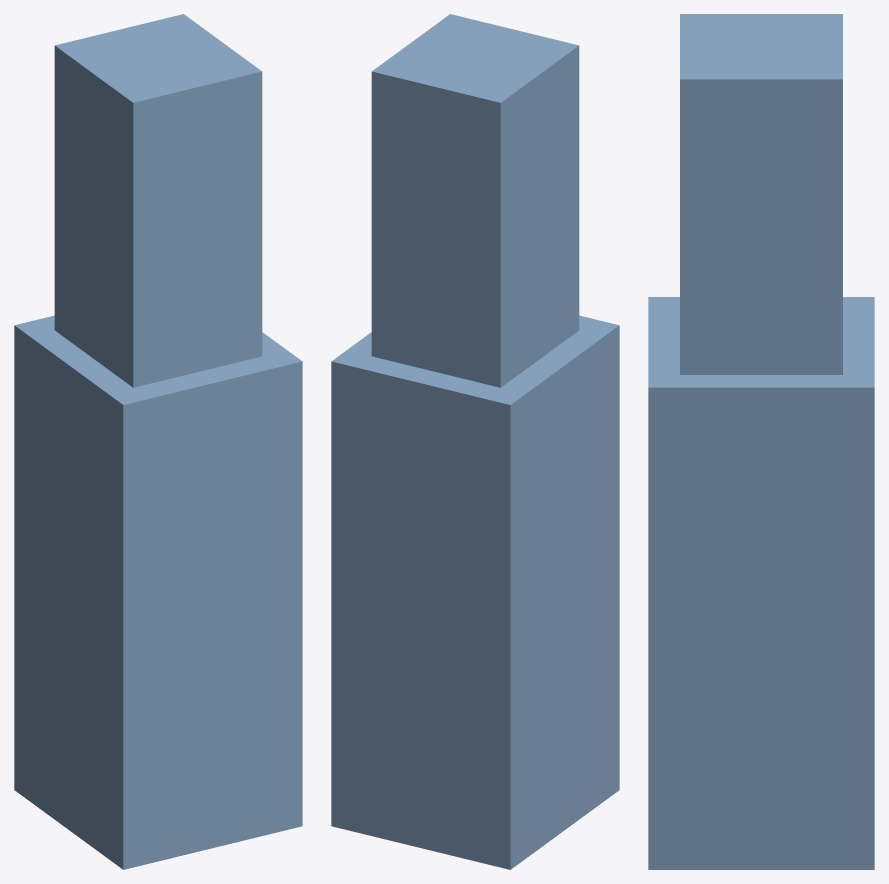
Rendered from tower_setback.glb.
3 views of the same model, side by side, from view 1: azimuth 30°, elevation 25°; view 2: azimuth 150°, elevation 25°; view 3: azimuth 270°, elevation 25° (orthographic). The views are drawn at different scales.
Visible parts, largest first — view 1: tower_setback; view 2: tower_setback; view 3: tower_setback.
Boxes of the visible parts, <box> form: tower_setback: <box>14,14,302,869</box>; tower_setback: <box>331,14,619,869</box>; tower_setback: <box>648,14,874,869</box>.
Bounding box in the file's own units: 0.55 × 2.2 × 0.58.
